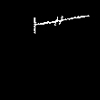treble_crochet: (34, 15, 88, 32)
